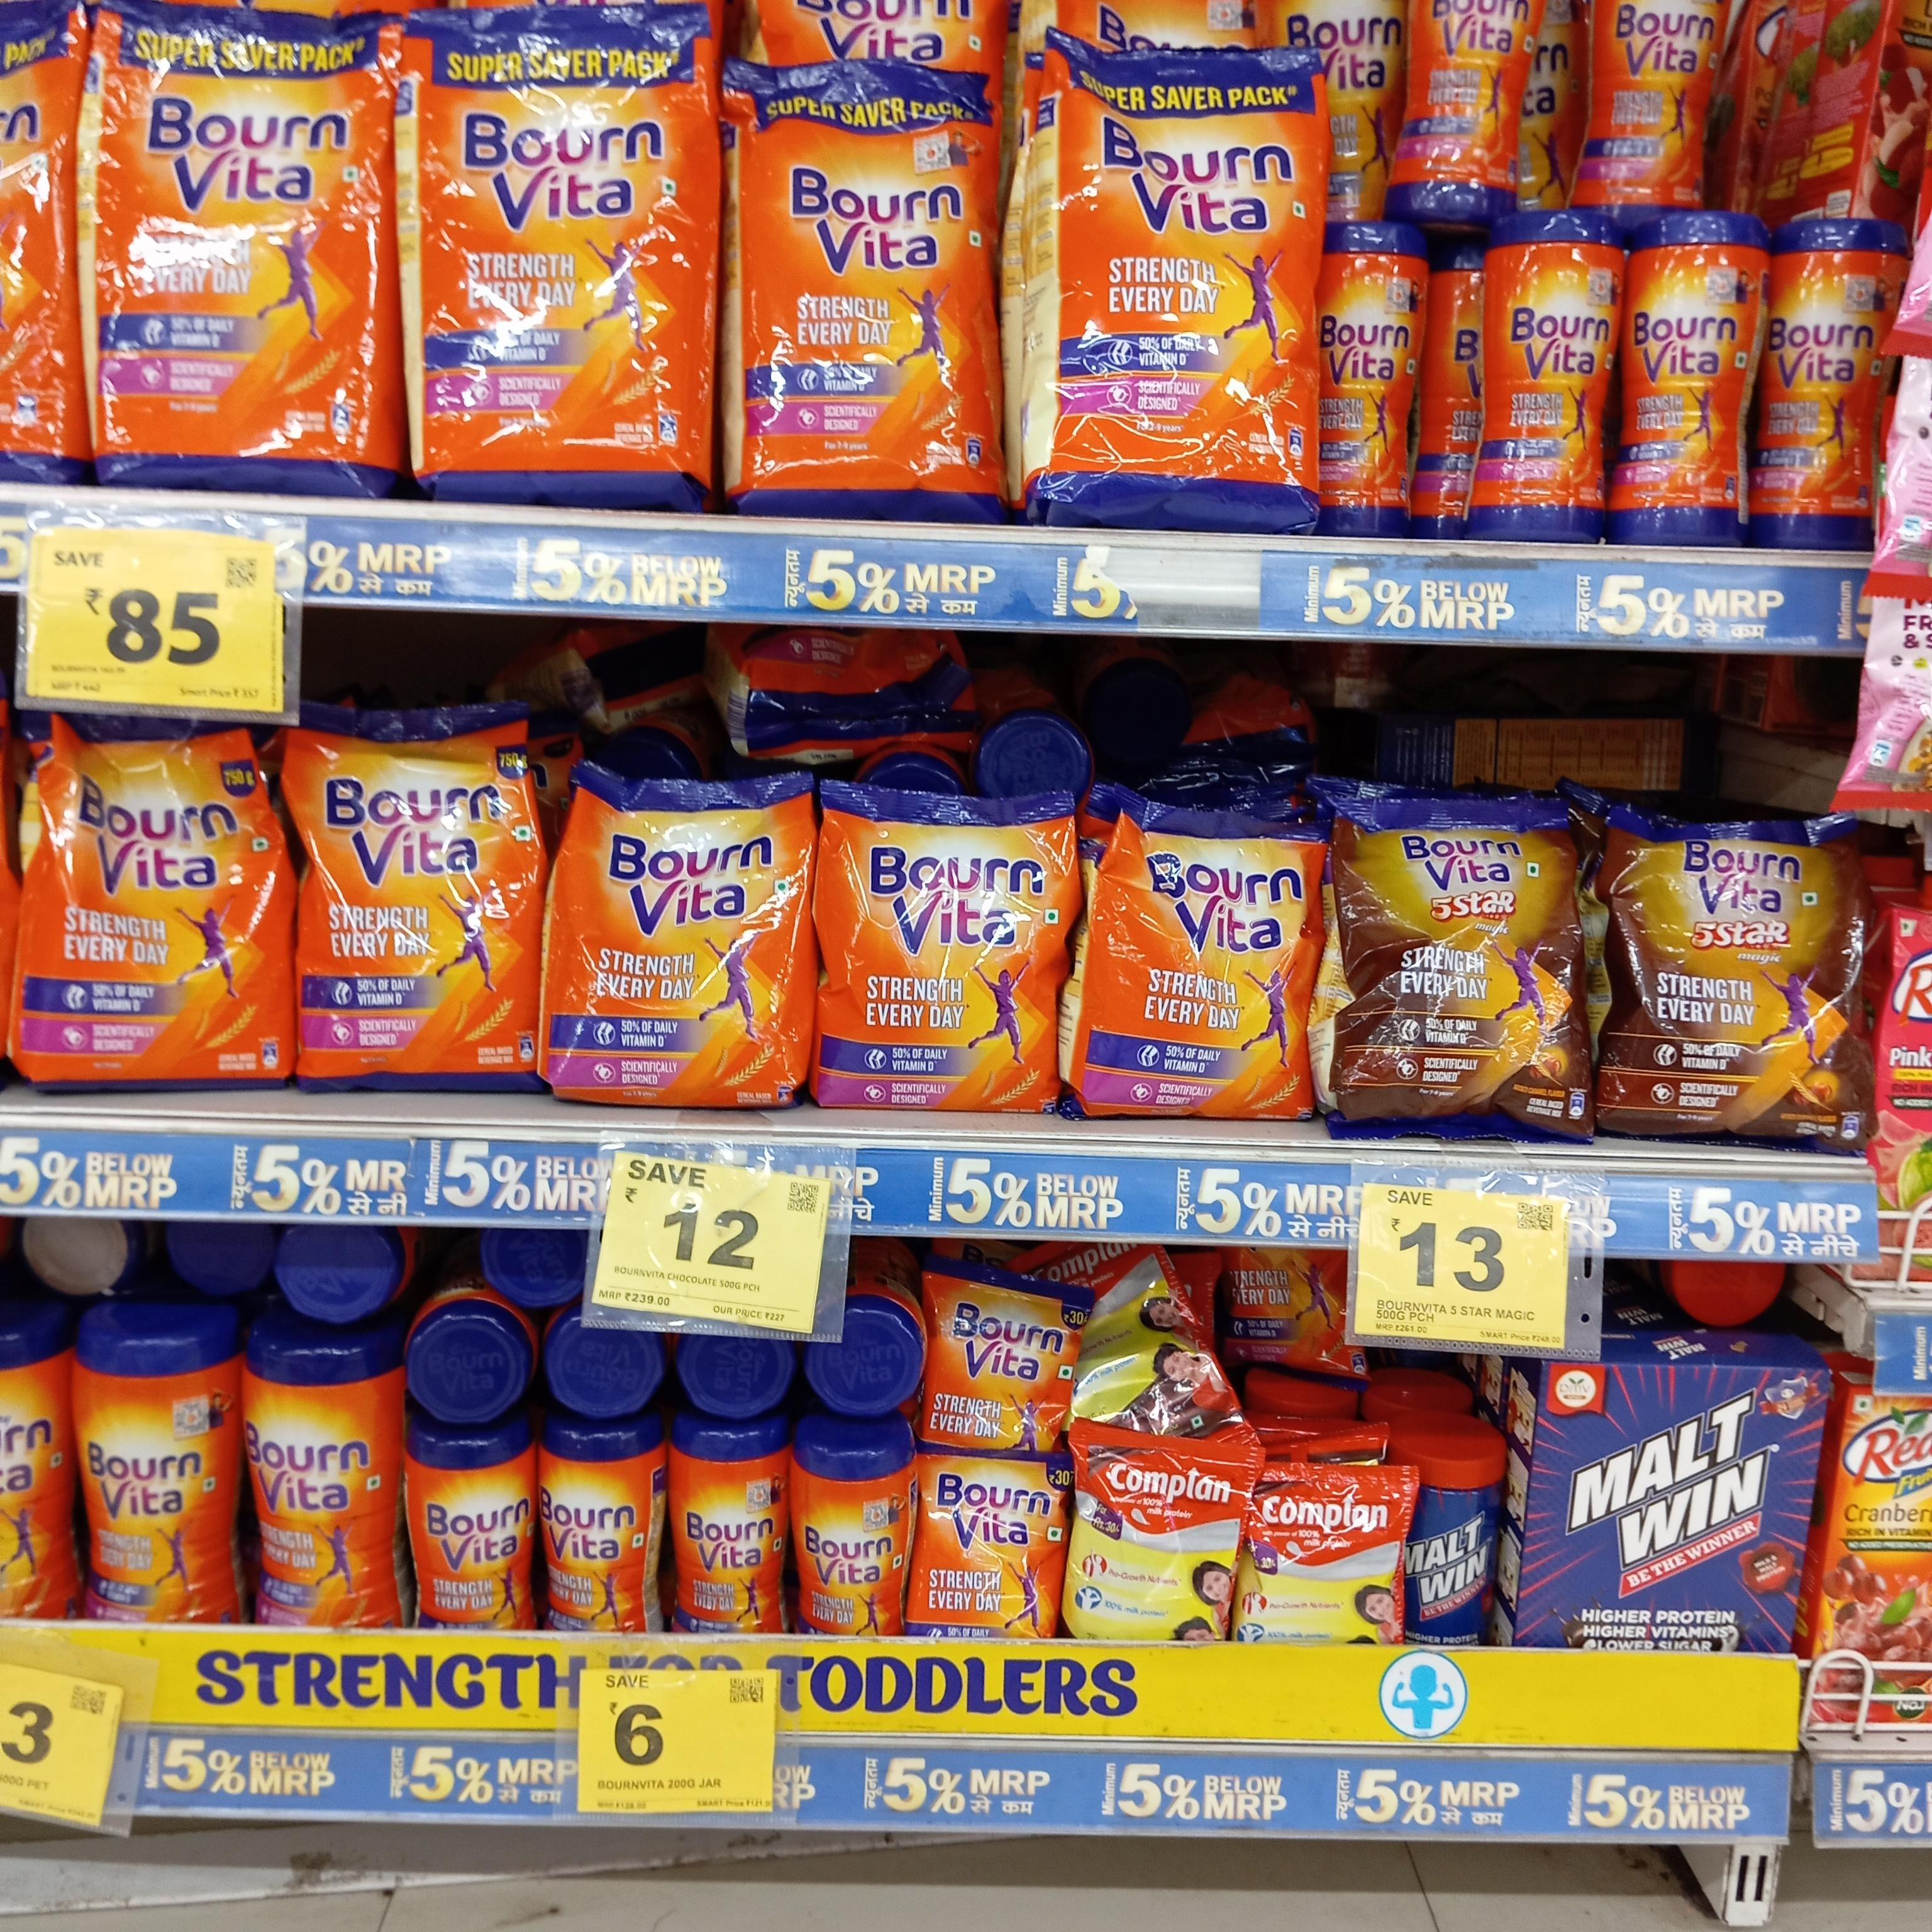BOURN_VITA_1_KG_POUCH: (83, 0, 391, 499), (400, 12, 711, 494), (1037, 34, 1315, 529), (725, 57, 996, 527)
BOURN_VITA_200_G_JAR: (405, 1421, 536, 1635), (662, 1417, 789, 1631), (794, 1422, 906, 1635), (541, 1426, 651, 1637)
BOURN_VITA_500_G_JAR: (76, 1315, 237, 1619), (246, 1332, 402, 1629), (1483, 205, 1608, 550), (1626, 211, 1752, 540), (1762, 216, 1872, 556)
BOURN_VITA_500_G_POUCH: (556, 764, 800, 1111), (810, 778, 1047, 1108), (1077, 800, 1307, 1127)
BOURN_VITA_750_G_POUCH: (16, 708, 281, 1083), (295, 717, 543, 1092)
BOURN_VITA_75_G_POUCH: (918, 1444, 1062, 1637), (925, 1267, 1067, 1435)
BOURN_VITA_FIVE_STAR_MAGIC_500_G_POUCH: (1332, 787, 1594, 1141), (1603, 807, 1872, 1146)
